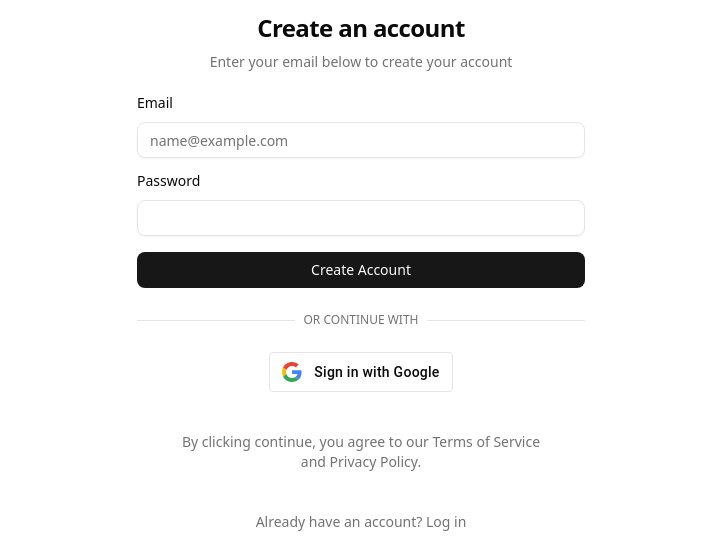
Test: Signup Page › Successful Signup › displays success message after successful signup
This screenshot has width=722, height=548.
Step 1. Type "test@example.com" into the field labelled "Email" → (361, 140), box x1=137 y1=122 x2=585 y2=158
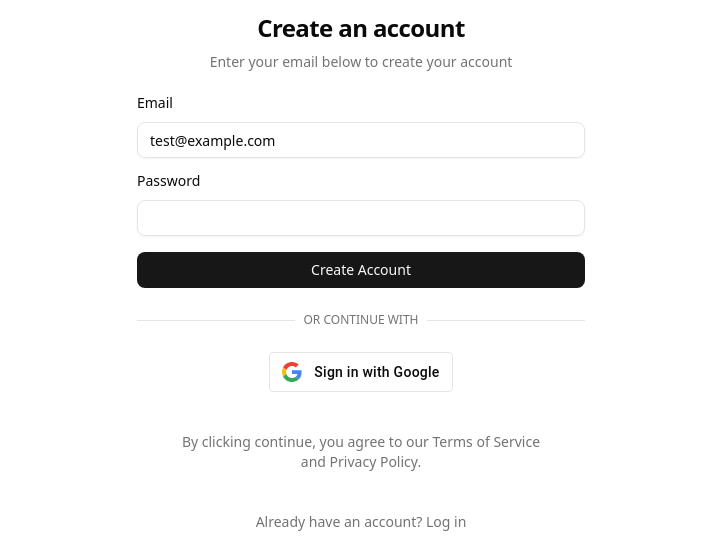
Step 2. Type "password123" into the password field labelled "Password" → (361, 218), box x1=137 y1=200 x2=585 y2=236
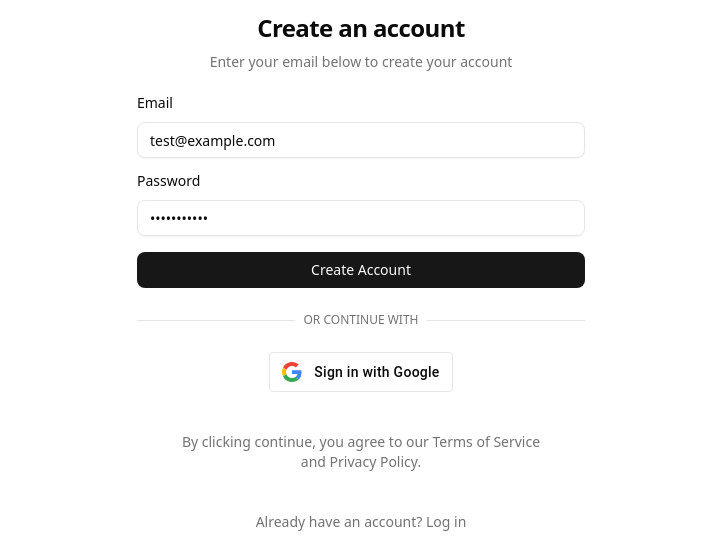
Step 3. Submit the form labelled "Email", box x1=137 y1=96 x2=585 y2=288
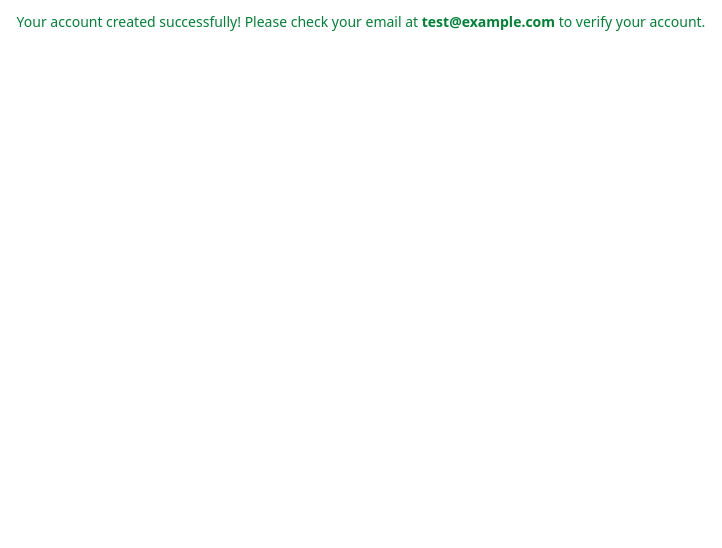
Expected: the text "Please check your email at" is shown, x1=17 y1=12 x2=422 y2=31
Expected: the text "test@example.com" is shown, x1=422 y1=12 x2=555 y2=31
